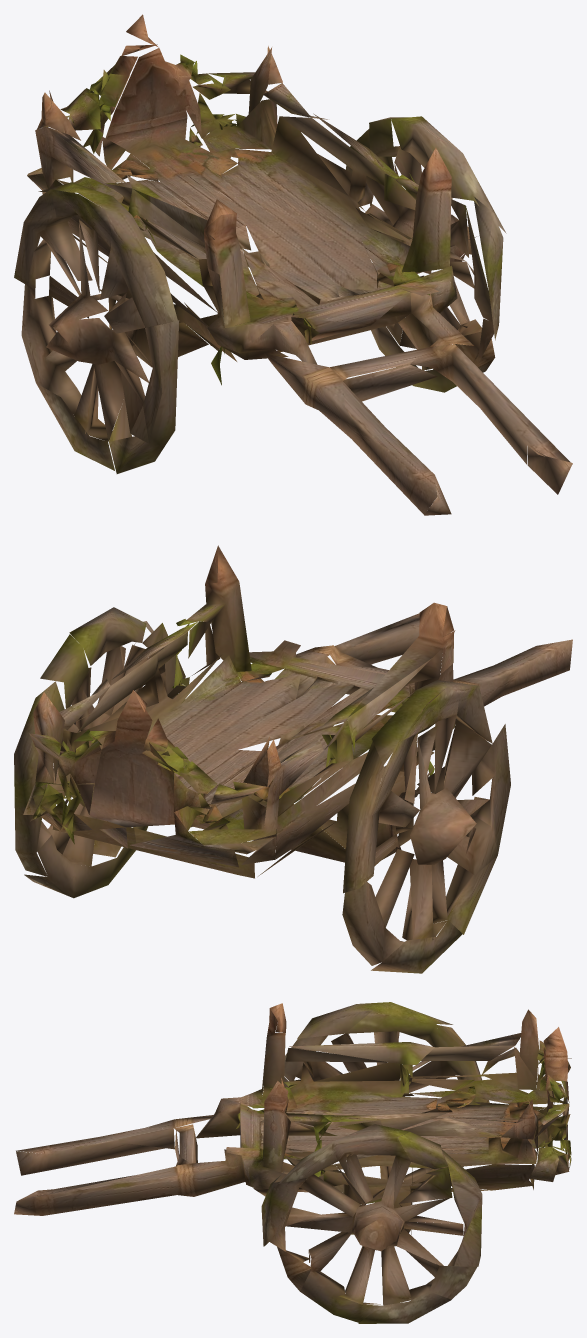
Rendered from p_cart.glb.
The picture shows the model from 3 angles, top to bottom: view 1: azimuth 30°, elevation 25°; view 2: azimuth 150°, elevation 25°; view 3: azimuth 270°, elevation 25°; orthographic projection. The views are drawn at different scales.
Parts seen in each view (by area): view 1: tripo_node_2f580860-61b8-4f66-ba5d-f9b9439a2e76; view 2: tripo_node_2f580860-61b8-4f66-ba5d-f9b9439a2e76; view 3: tripo_node_2f580860-61b8-4f66-ba5d-f9b9439a2e76.
Part boxes in pixels (x1=…): tripo_node_2f580860-61b8-4f66-ba5d-f9b9439a2e76: x1=14, y1=14, x2=572, y2=515; tripo_node_2f580860-61b8-4f66-ba5d-f9b9439a2e76: x1=14, y1=545, x2=572, y2=973; tripo_node_2f580860-61b8-4f66-ba5d-f9b9439a2e76: x1=14, y1=1002, x2=571, y2=1323.
Size of the model in its own units: 1.37 by 1 by 2.14.
1 material, 1 textured.
